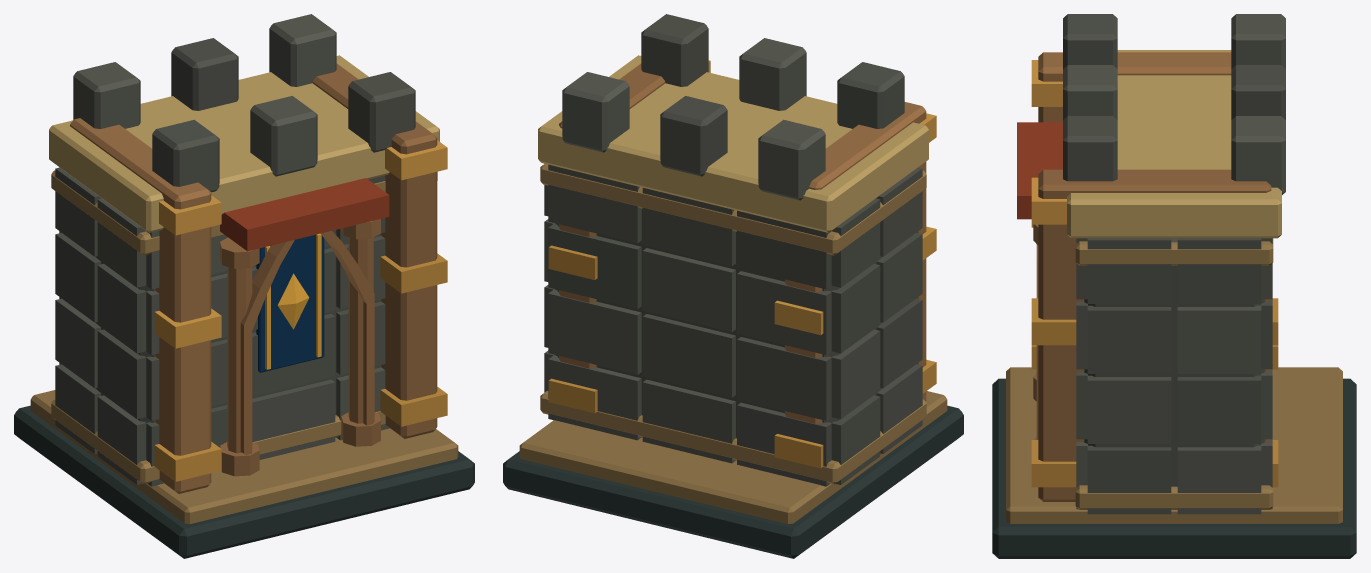
The picture shows the model from 3 angles, left to right: view 1: azimuth 30°, elevation 25°; view 2: azimuth 150°, elevation 25°; view 3: azimuth 270°, elevation 25°; orthographic projection. The views are drawn at different scales.
Visible parts, largest first — view 1: wall_L3_0, wall_L3_1; view 2: wall_L3_0, wall_L3_1; view 3: wall_L3_0, wall_L3_1.
Part boxes in pixels (x1=…): wall_L3_0: x1=14, y1=14, x2=474, y2=558; wall_L3_1: x1=154, y1=140, x2=447, y2=481; wall_L3_0: x1=503, y1=14, x2=963, y2=558; wall_L3_1: x1=548, y1=60, x2=936, y2=468; wall_L3_0: x1=992, y1=14, x2=1356, y2=558; wall_L3_1: x1=1031, y1=60, x2=1278, y2=487.
Bounding box in the file's own units: 1.87 × 2.31 × 1.86.
